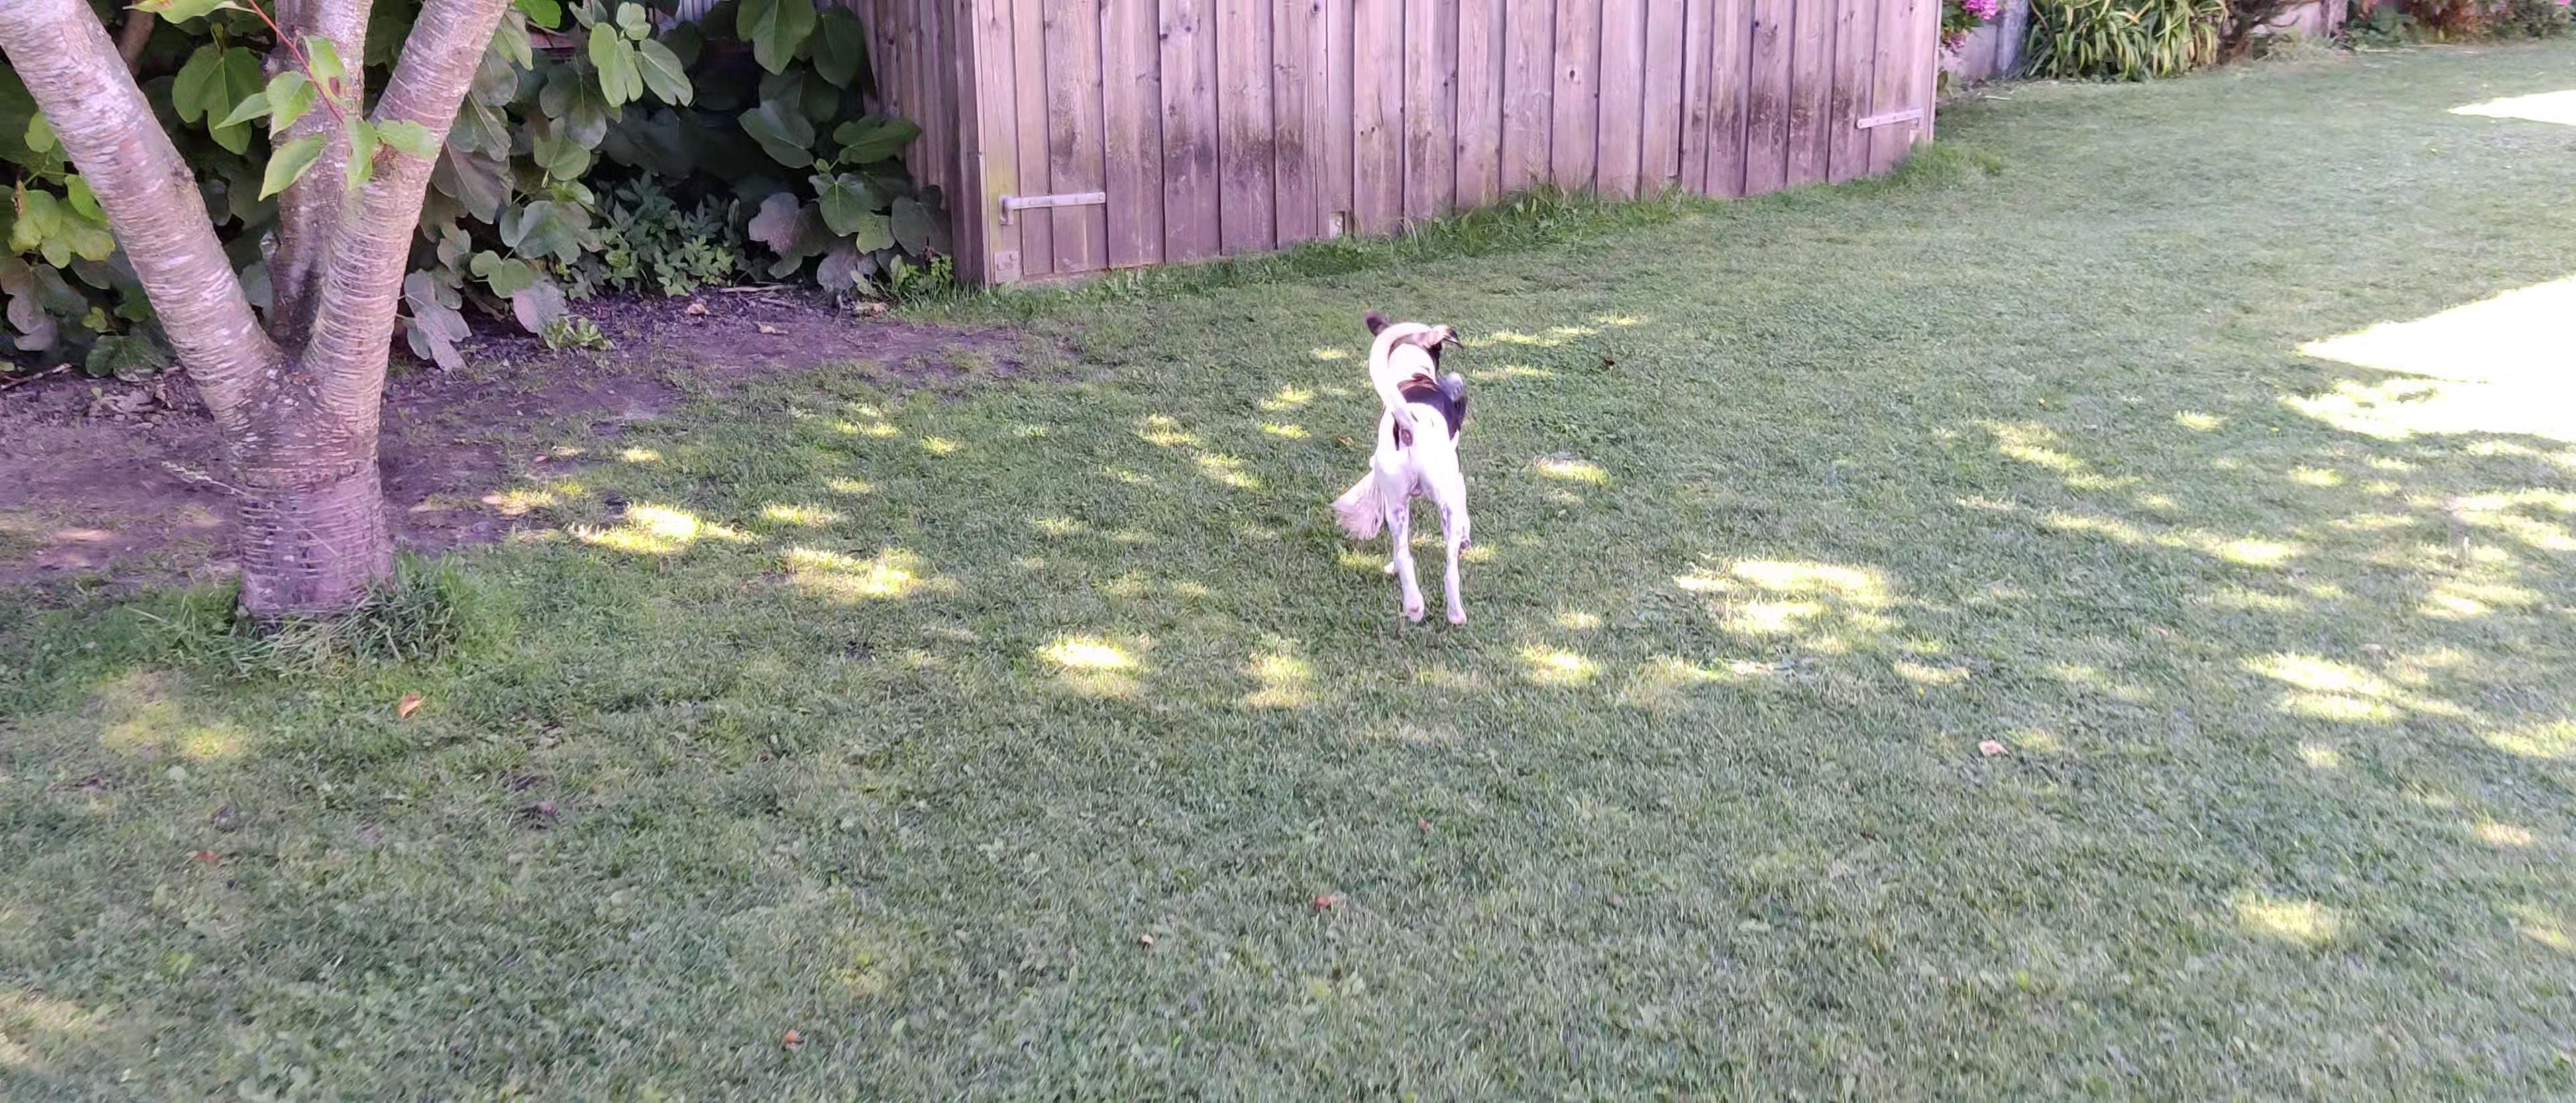Dog: (1339, 293, 1485, 630)
